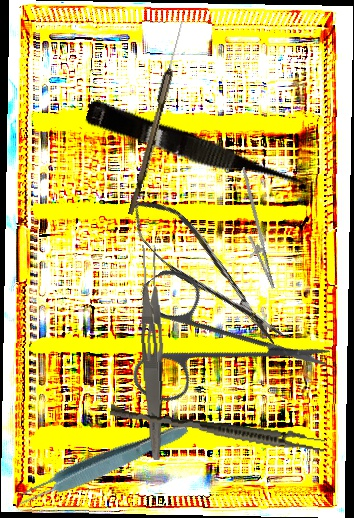Dressing Forceps: (136, 244, 171, 461)
Iris Scissors: (90, 219, 335, 464)
Micro Scissor: (120, 185, 291, 360), (82, 98, 315, 205)
Needle Holder: (218, 166, 290, 293)
Surgical Spoon: (127, 19, 187, 217)
Tissue Forceps: (12, 417, 192, 511), (108, 403, 327, 455)
